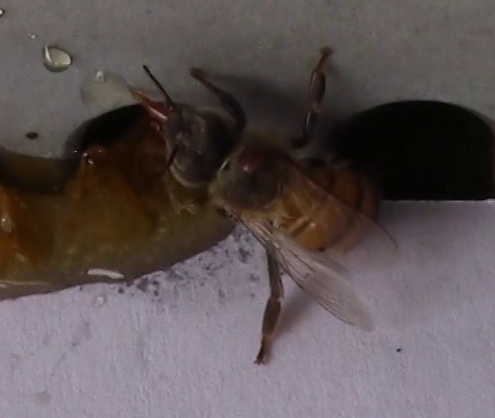Varroa destructor: (236, 150, 268, 176)
